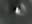person: (20, 3, 29, 17), (16, 8, 21, 17)
